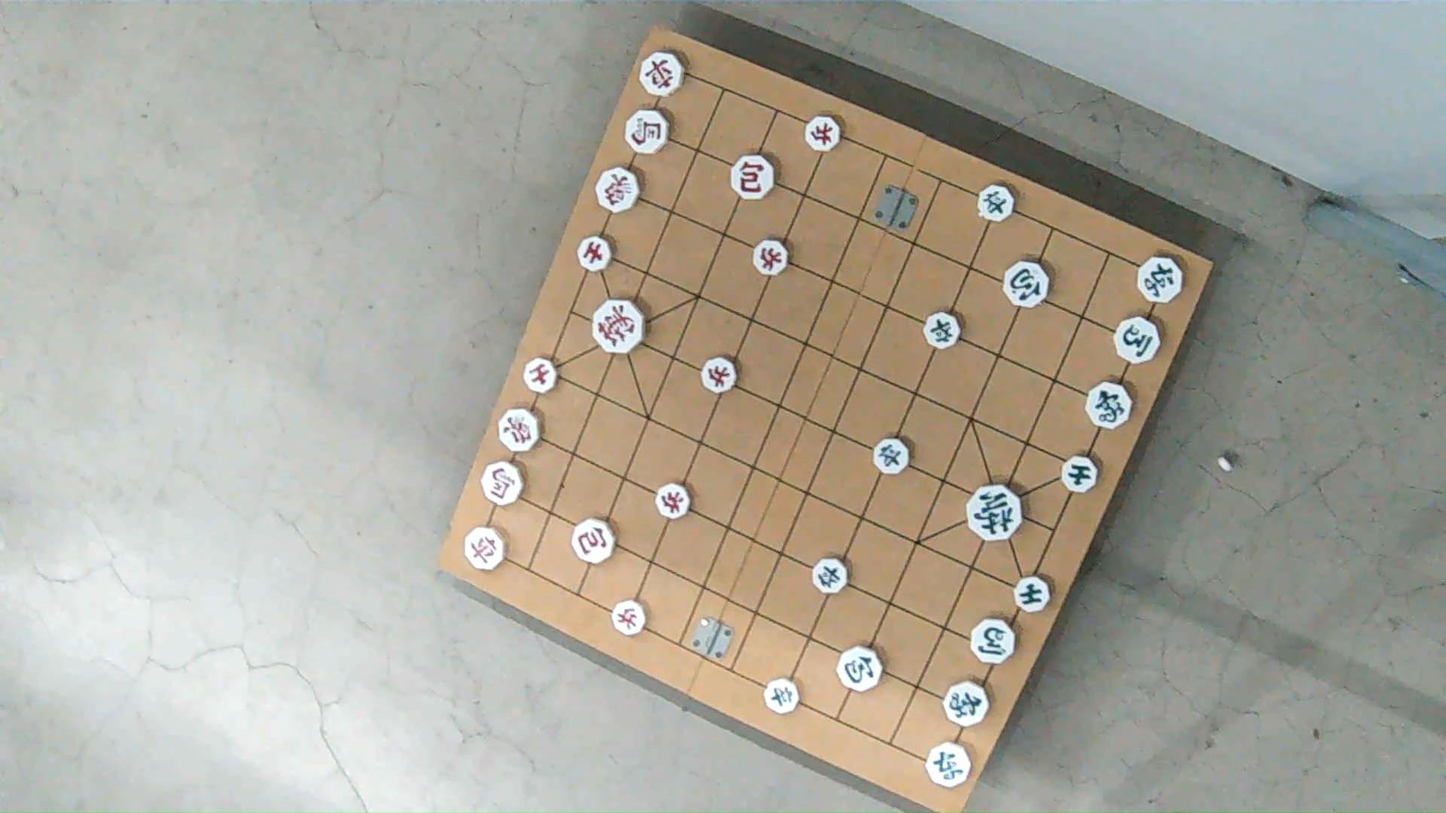cha_green: (1135, 256, 1184, 303), (924, 743, 975, 787)
cha_red: (633, 52, 684, 95), (465, 529, 508, 569)
jol_green: (975, 186, 1014, 222), (924, 313, 964, 348), (871, 438, 911, 473), (811, 560, 850, 595), (764, 681, 804, 714)
jol_red: (803, 114, 844, 149), (752, 241, 792, 276), (609, 602, 648, 636), (700, 358, 740, 391), (652, 485, 691, 518)
ma_green: (1112, 317, 1162, 361), (971, 620, 1016, 662)
ma_red: (625, 111, 670, 154), (479, 462, 523, 505)
po_green: (1004, 261, 1051, 306), (837, 647, 886, 690)
po_red: (729, 157, 774, 199), (575, 519, 618, 562)
sa_green: (1059, 457, 1100, 491), (1013, 577, 1051, 611)
sa_red: (577, 236, 613, 273), (524, 357, 557, 392)
sang_green: (942, 682, 991, 726), (1088, 382, 1133, 429)
sang_red: (593, 168, 642, 212), (496, 406, 542, 451)
wang_green: (965, 484, 1023, 537)
wang_red: (591, 301, 647, 354)
